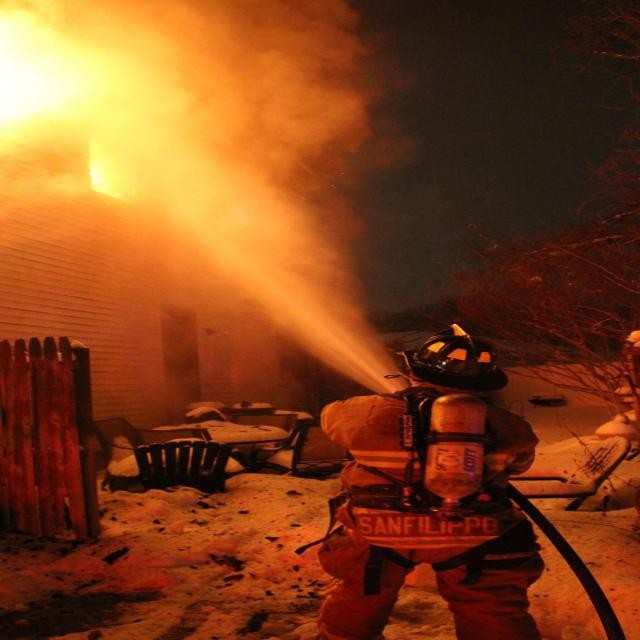Fire: (0, 17, 186, 320), (156, 0, 408, 213)
